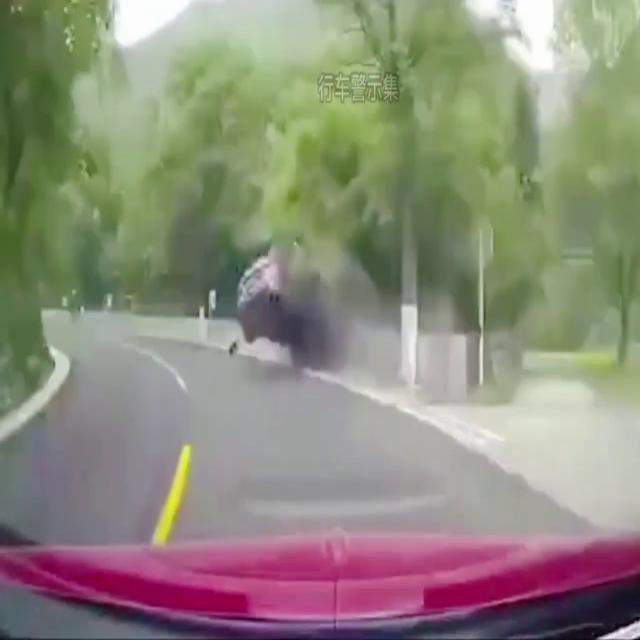accident: (229, 248, 349, 378)
